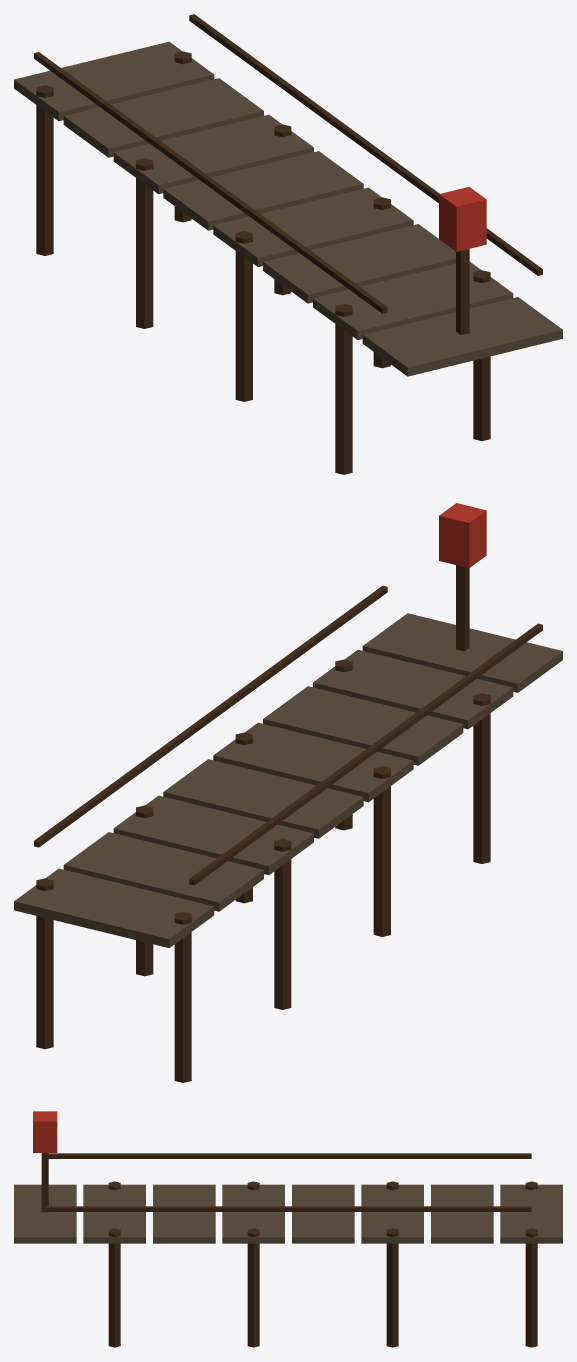
Rendered from lake-pier.glb.
The picture shows the model from 3 angles, top to bottom: view 1: azimuth 30°, elevation 25°; view 2: azimuth 150°, elevation 25°; view 3: azimuth 270°, elevation 25°; orthographic projection. The views are drawn at different scales.
Visible parts, largest first — view 1: lake-pier; view 2: lake-pier; view 3: lake-pier.
Part boxes in pixels (bbox=[...]): lake-pier: bbox=[14, 14, 562, 474]; lake-pier: bbox=[14, 503, 562, 1082]; lake-pier: bbox=[14, 1111, 562, 1347].
Bounding box in the file's own units: 1.86 × 3.25 × 7.9.
